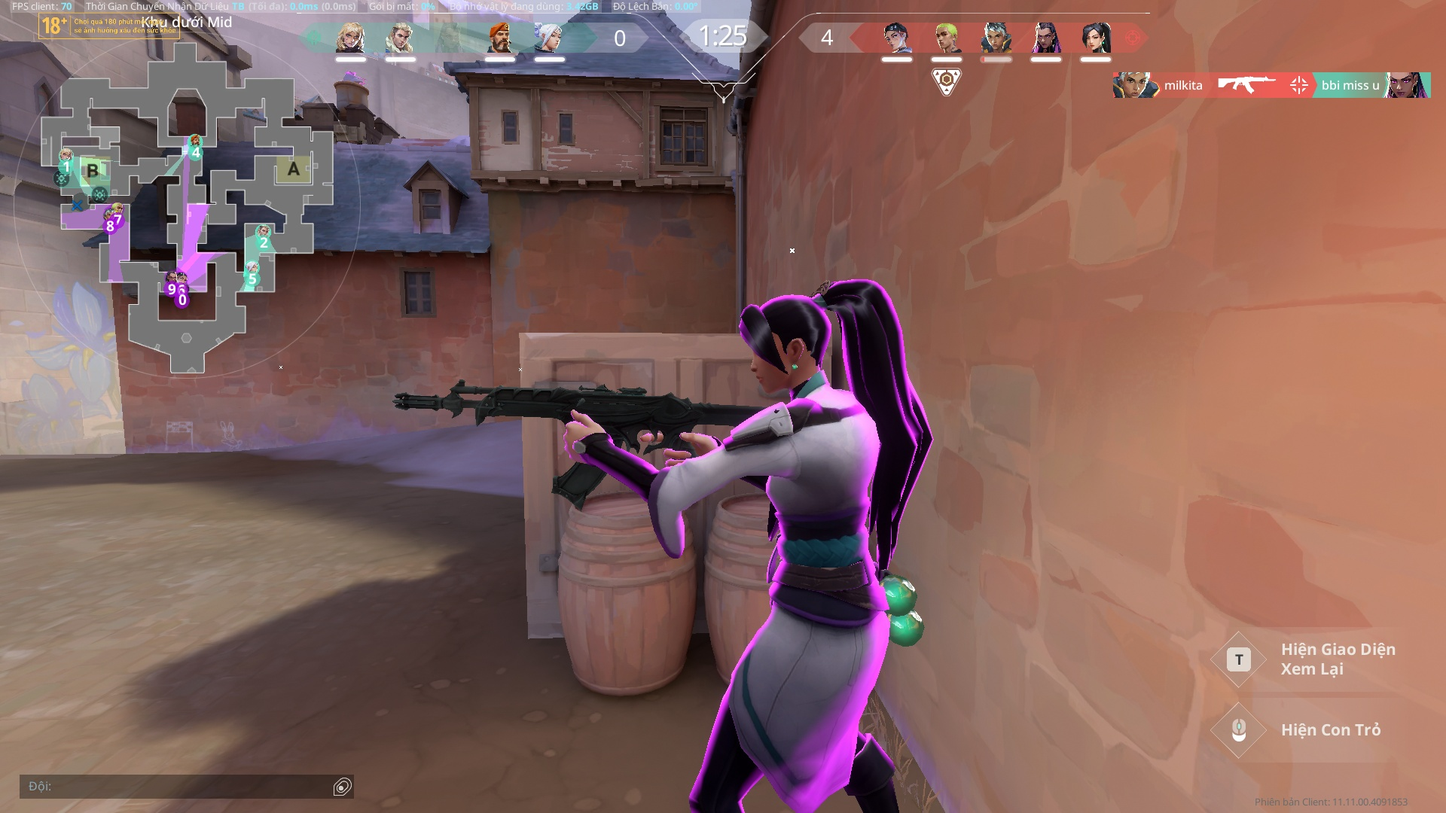body: (750, 386, 898, 593)
head: (742, 297, 844, 389)
